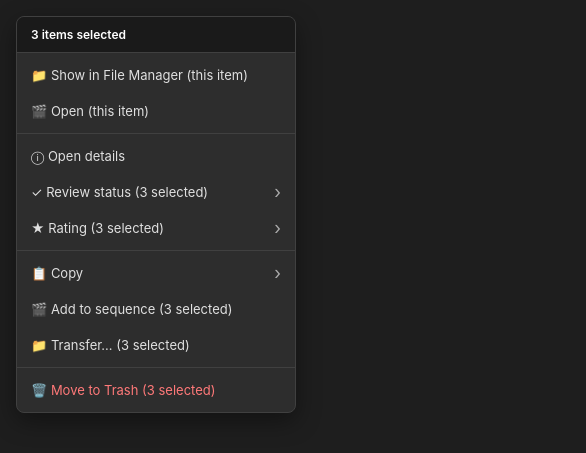
it: ContextMenu › retains every pre-library action and adds review actions in dense groups
This screenshot has width=586, height=453.
Expected: the text "3 items selected" is shown, [31,27,126,42]
Expected: the menu item "🎬 Open (this item)" is shown, [17,93,295,129]
Hover over the menu item "📋 Copy ›".
mouse_move(57, 273)  # box [17,255,295,291]
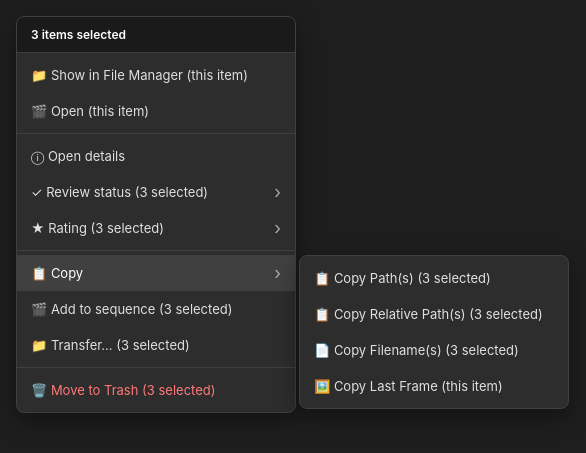
Expected: the menu item "📋 Copy Path(s) (3 selected)" is shown, [300,260,568,296]
Expected: the menu item "📋 Copy Relative Path(s) (3 selected)" is shown, [300,296,568,332]
Expected: the menu item "📄 Copy Filename(s) (3 selected)" is shown, [300,332,568,368]
Hover over the menu item "★ Rating (3 selected) ›".
mouse_move(156, 228)  # box [17,210,295,246]
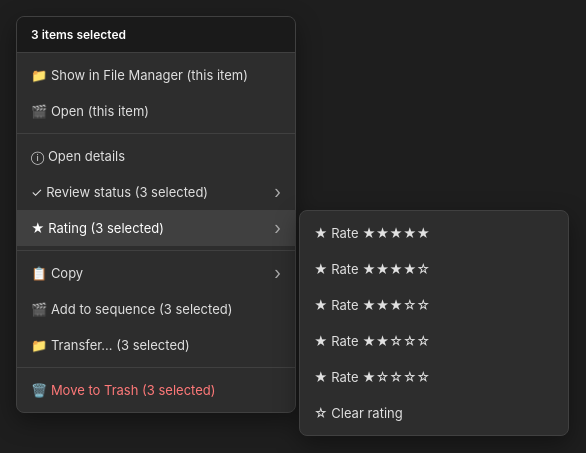
Expected: the number of menu items "★ Rate ★★★★★" is 5, [300,215,568,251]; [300,251,568,287]; [300,287,568,323]; [300,323,568,359]; [300,359,568,395]
Expected: the menu item "☆ Clear rating" is shown, [300,395,568,431]
Hover over the menu item "✓ Review status (3 selected) ›".
mouse_move(156, 192)  # box [17,174,295,210]
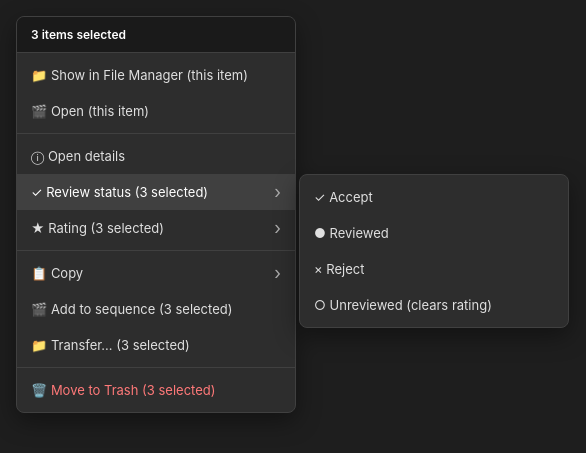
Expected: the menu item "✓ Accept" is shown, [300,179,568,215]
Expected: the menu item "● Reviewed" is shown, [300,215,568,251]
Expected: the menu item "× Reject" is shown, [300,251,568,287]
